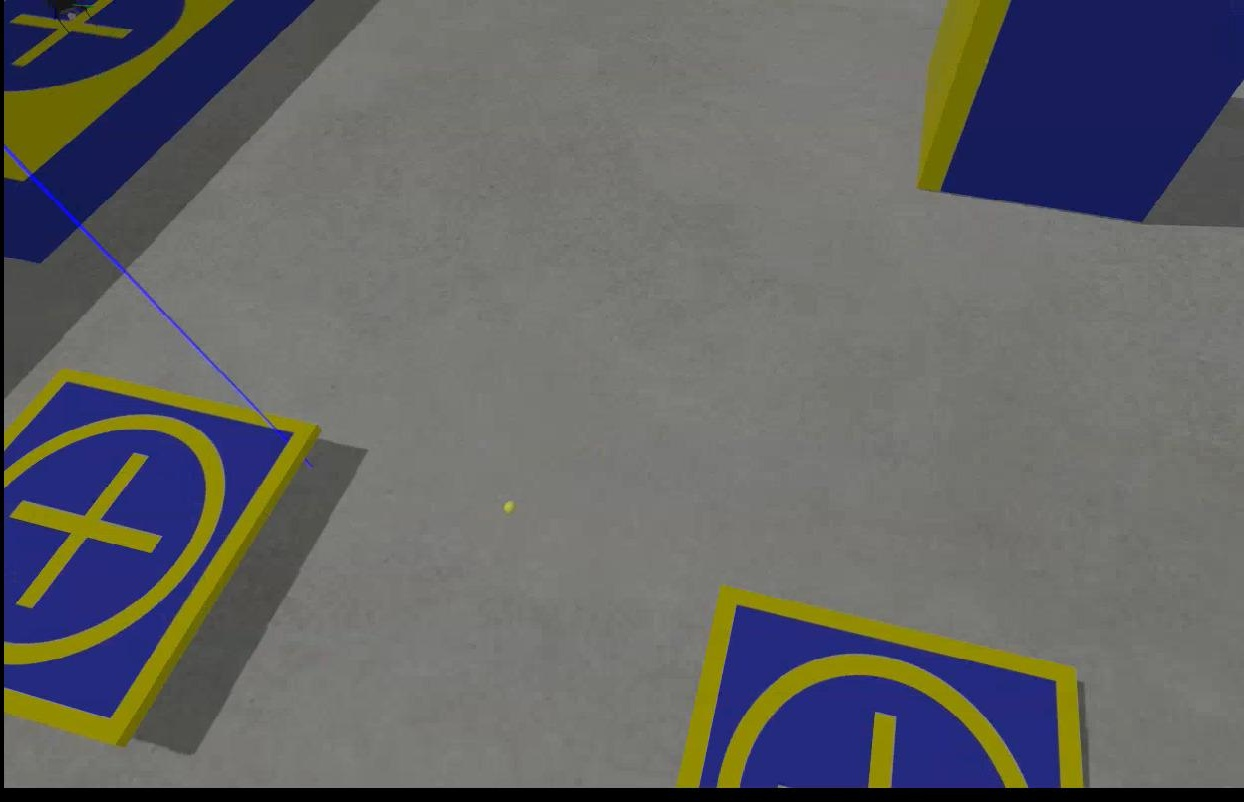large_base: (1, 1, 312, 265)
small_base: (0, 371, 318, 748), (664, 581, 1096, 791)
